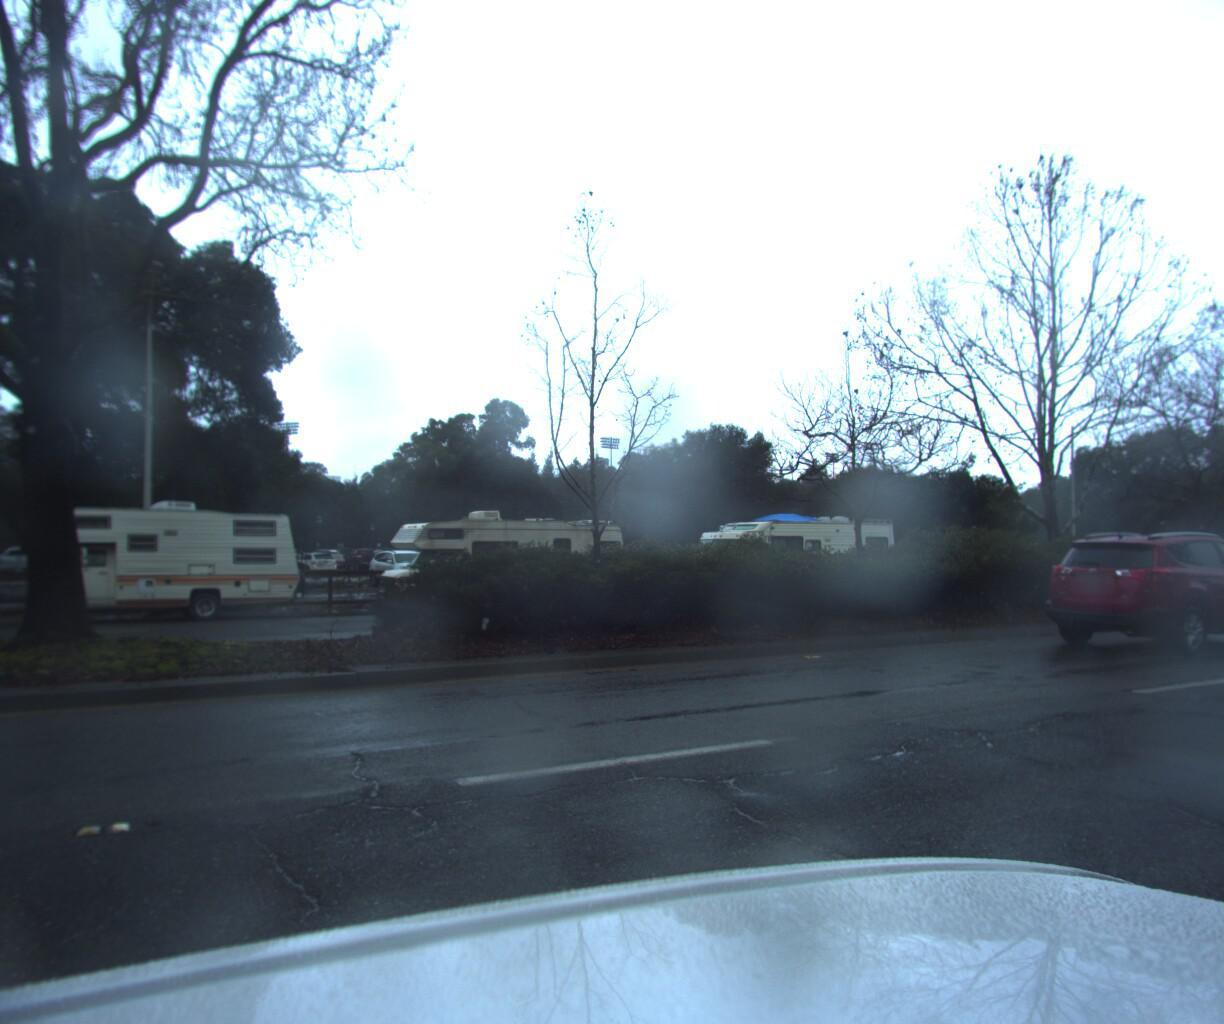car: (1015, 525, 1224, 656), (236, 539, 308, 591), (365, 543, 444, 584)
other_vehicle: (25, 494, 305, 630), (374, 503, 632, 616), (677, 506, 903, 608)
